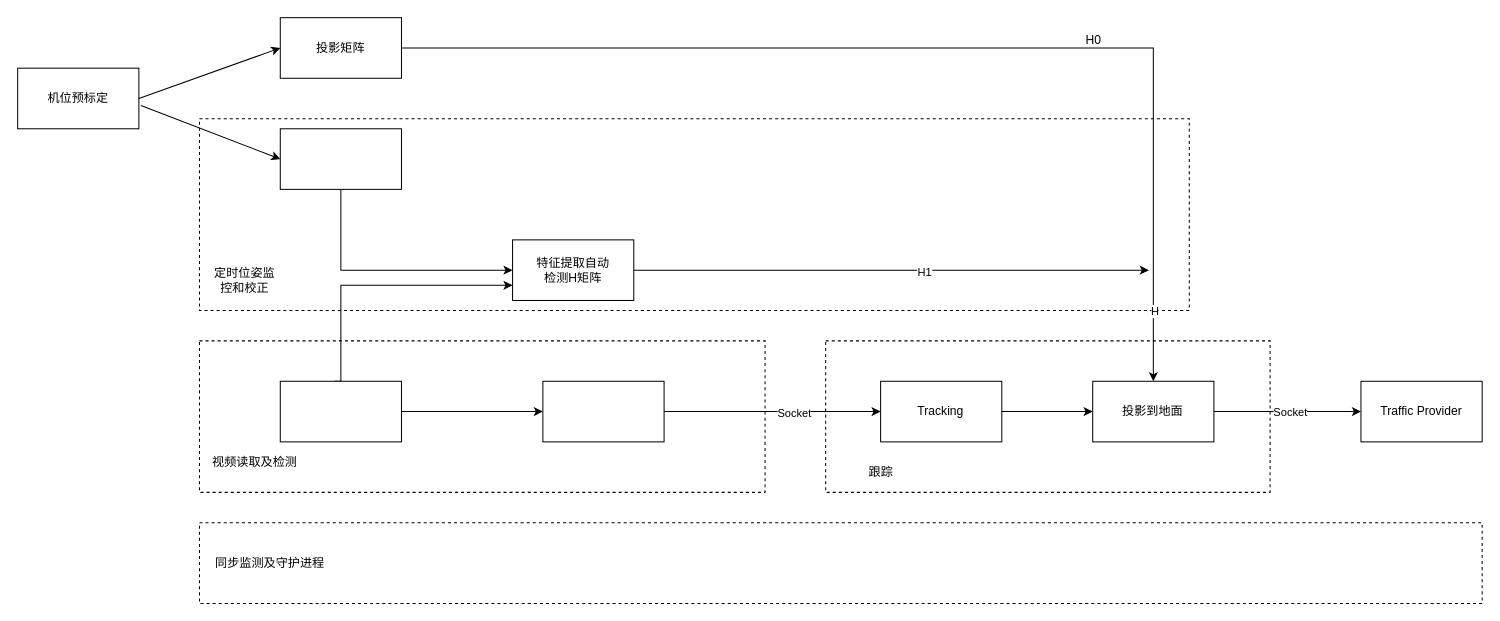
Some shapes in this 1500 by 621 pixel diagram are drawn without their labels. The shapes that lost their labels are listed below. From the top down, each one's centre as x and y in pixels, then its label:
the point at 340,158: 机位基准图像
the point at 340,411: 摄像头视频读取
the point at 603,411: Detection
